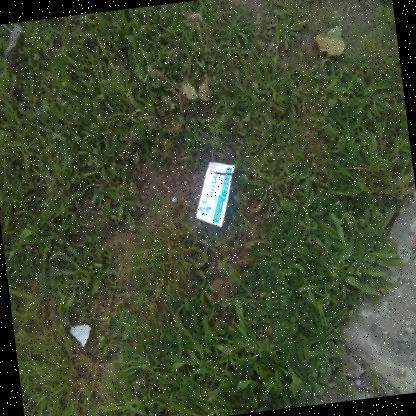Other plastic: (196, 162, 234, 226), (70, 326, 91, 346)
